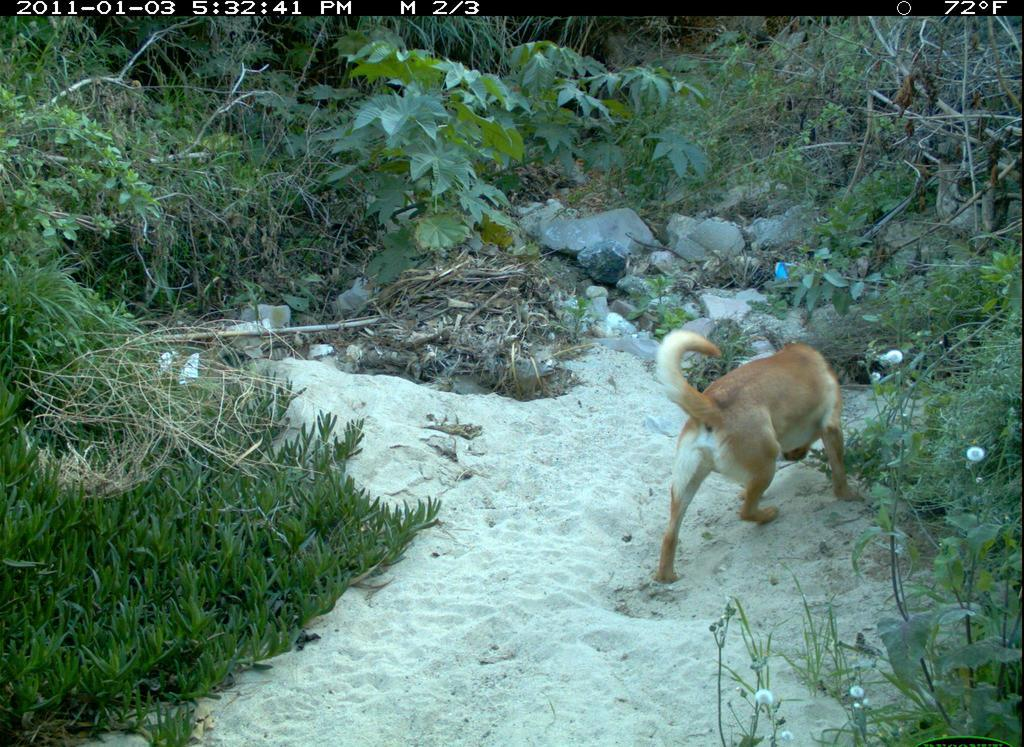dog: (639, 294, 866, 598)
